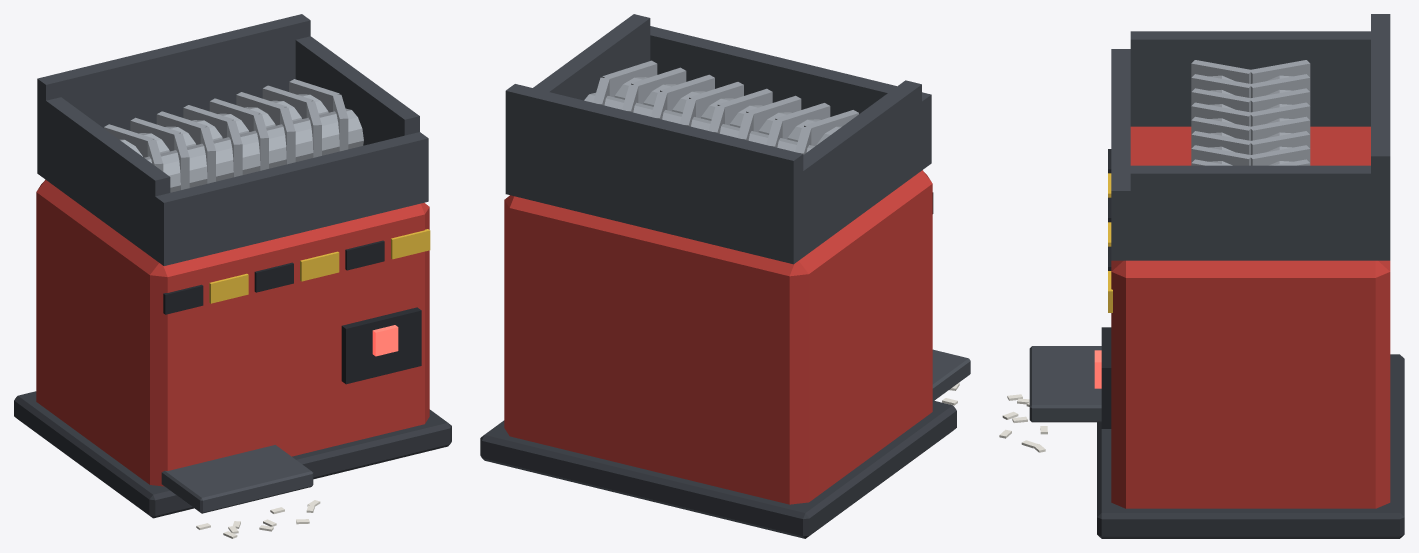
Rendered from shredder_p0_4.glb.
The picture shows the model from 3 angles, left to right: view 1: azimuth 30°, elevation 25°; view 2: azimuth 150°, elevation 25°; view 3: azimuth 270°, elevation 25°; orthographic projection. The views are drawn at different scales.
Parts seen in each view (by area): view 1: shredder_p0_4_mesh; view 2: shredder_p0_4_mesh; view 3: shredder_p0_4_mesh.
Boxes of the visible parts, x1,y1,x2,y2 form: shredder_p0_4_mesh: (14, 14, 451, 538); shredder_p0_4_mesh: (480, 14, 970, 538); shredder_p0_4_mesh: (999, 14, 1404, 538).
Bounding box in the file's own units: 0.8 × 0.86 × 0.8432.
